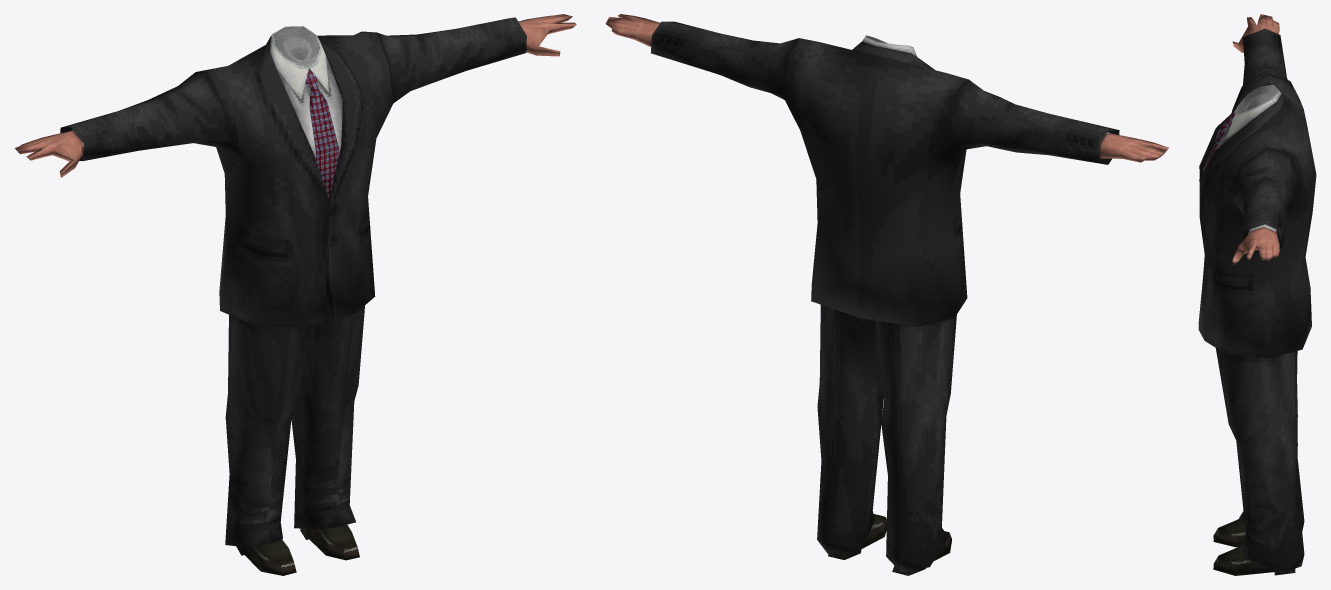
File: Vince_B.obj
3 views of the same model, side by side, from view 1: azimuth 30°, elevation 25°; view 2: azimuth 150°, elevation 25°; view 3: azimuth 270°, elevation 25° (orthographic). The views are drawn at different scales.
Parts seen in each view (by area): view 1: Vince_B.001; view 2: Vince_B.001; view 3: Vince_B.001.
Part boxes in pixels (box(x1,y1,x2,y2)): Vince_B.001: box(14, 14, 576, 575); Vince_B.001: box(605, 14, 1168, 575); Vince_B.001: box(1198, 14, 1316, 575).
Size of the model in its own units: 19.51 by 17.33 by 3.99.
10 materials, 10 textured.
